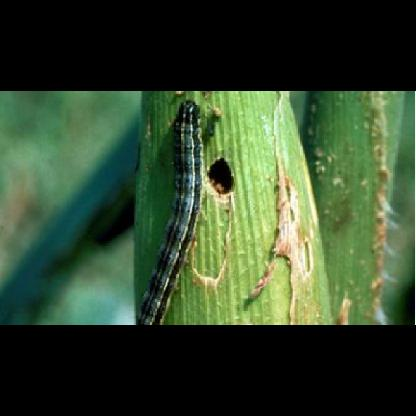agujero: (201, 150, 239, 200)
oruga: (136, 96, 212, 324)
